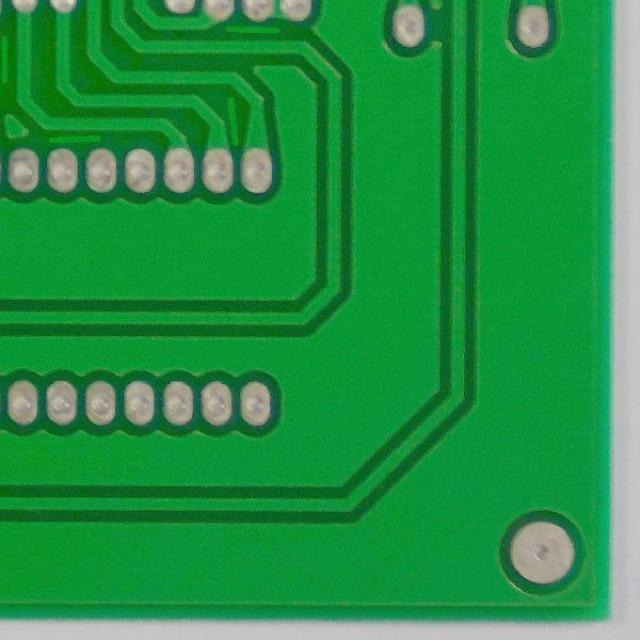Spurious_Cooper: (220, 90, 245, 149), (218, 20, 284, 38), (44, 130, 106, 147), (0, 29, 13, 88)
